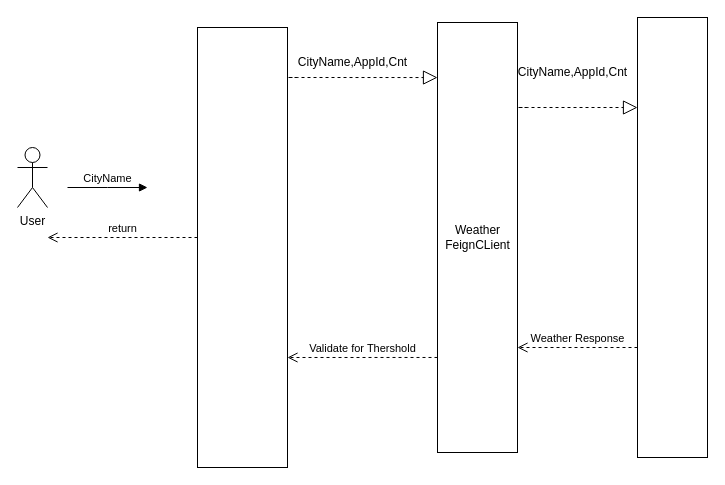
The diagram is 725 pixels wide and 485 high, and some of its shapes have lost their labels. The shapes that lost their labels are listed below. From the top down, each one's centre as x and y in pixels, then its label:
(242,247): Weather API
(672,237): OpenAPI
